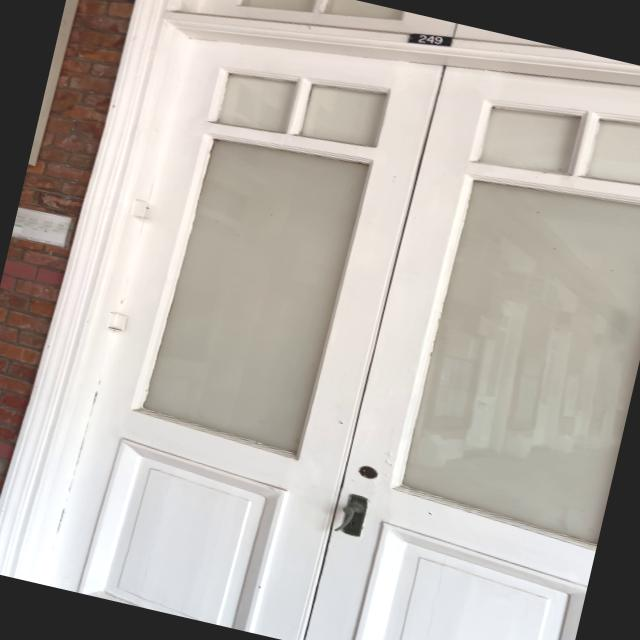room249: (401, 24, 456, 56)
